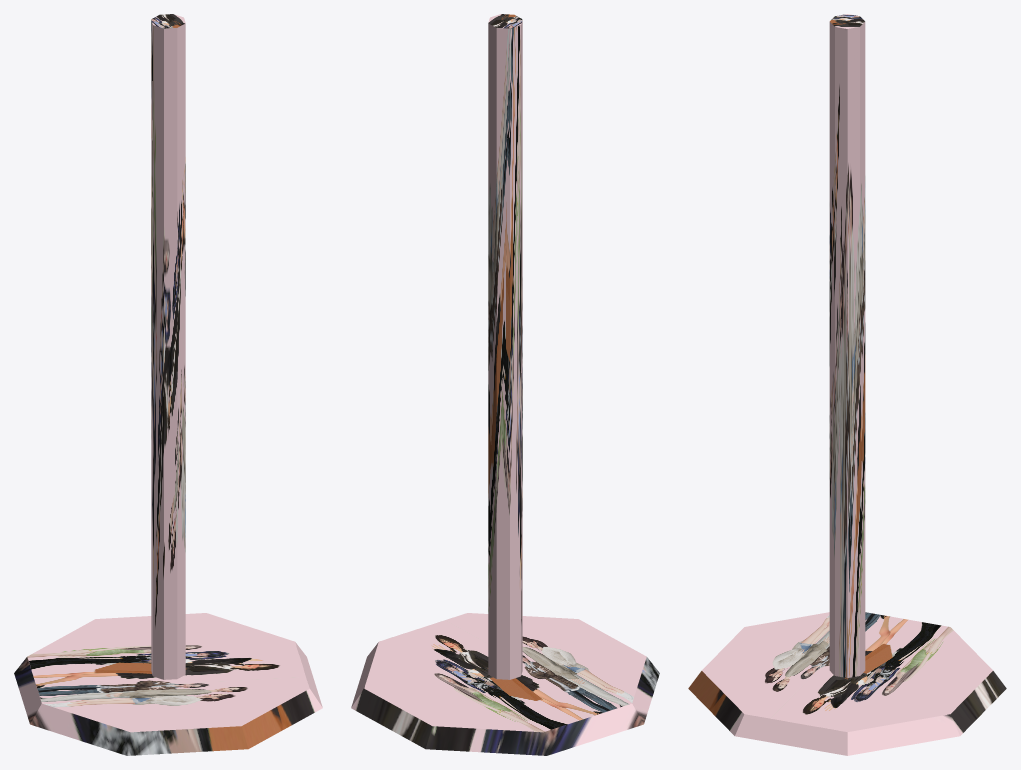
File: stand_3.fbx
3 renders of one model, left to right at view 1: azimuth 30°, elevation 25°; view 2: azimuth 150°, elevation 25°; view 3: azimuth 270°, elevation 25°, orthographic.
Visible parts, largest first — view 1: Cylinder001.009; view 2: Cylinder001.009; view 3: Cylinder001.009.
Part boxes in pixels (box(x1,y1,x2,y2)): Cylinder001.009: box(14, 14, 322, 755); Cylinder001.009: box(351, 14, 659, 755); Cylinder001.009: box(688, 14, 1006, 755).
Bounding box in the file's own units: 36.86 × 85.13 × 36.86.
